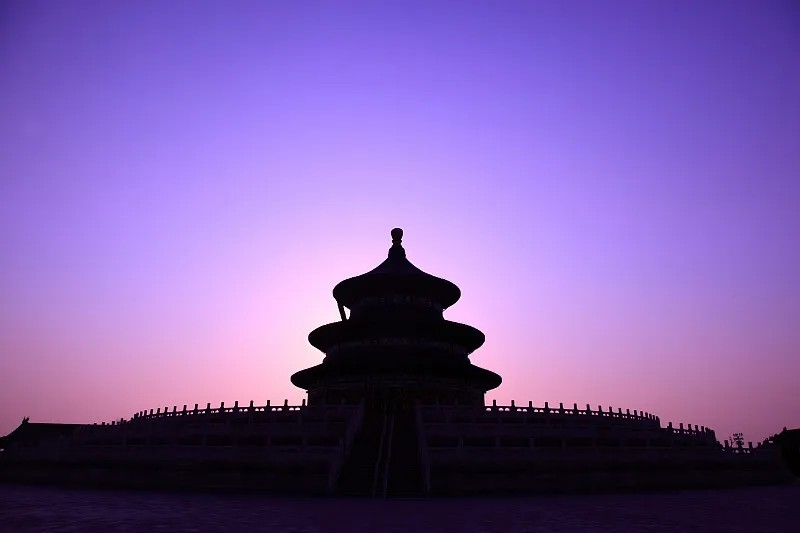Heaven: (290, 229, 504, 411)
